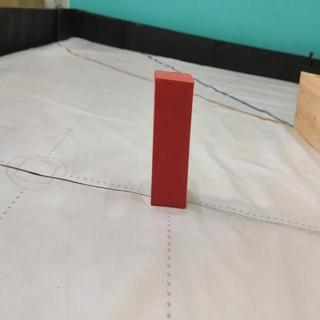redbox: (151, 69, 193, 208)
